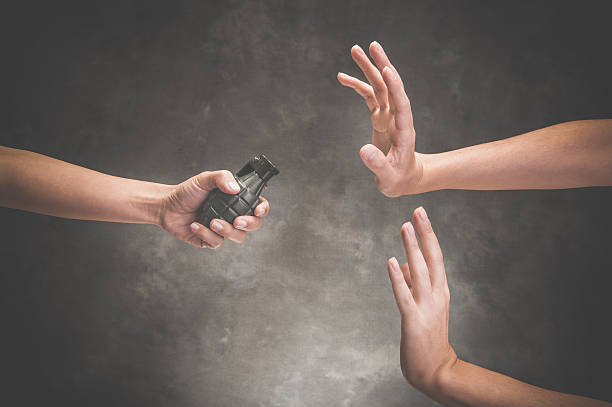e1: (199, 153, 280, 232)
